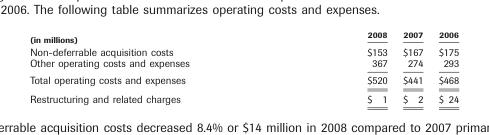table: (29, 28, 458, 104)
table column: (29, 28, 277, 104), (277, 28, 394, 104), (394, 28, 430, 104), (430, 28, 458, 104)
table column header: (29, 28, 458, 44)
table row: (29, 71, 458, 88), (29, 28, 458, 44), (29, 88, 458, 104), (29, 56, 458, 71), (29, 44, 458, 56)
